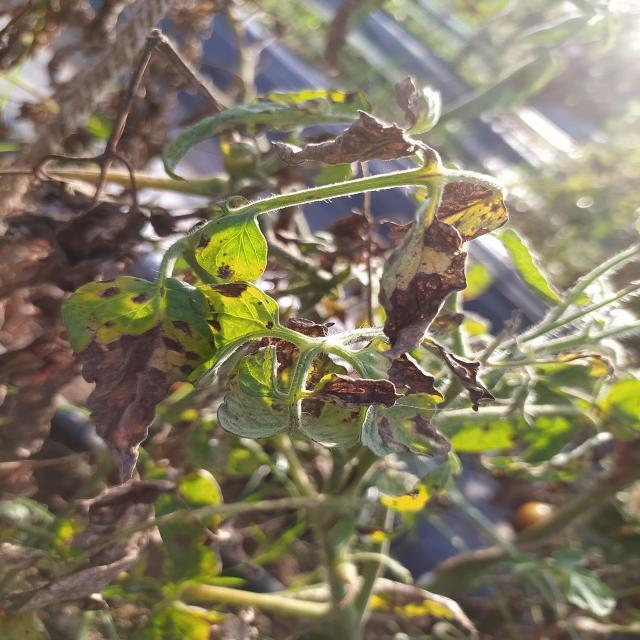Tomato mosaic virus leaf: (58, 276, 220, 488), (375, 220, 471, 368), (182, 228, 280, 341), (313, 367, 402, 412)
